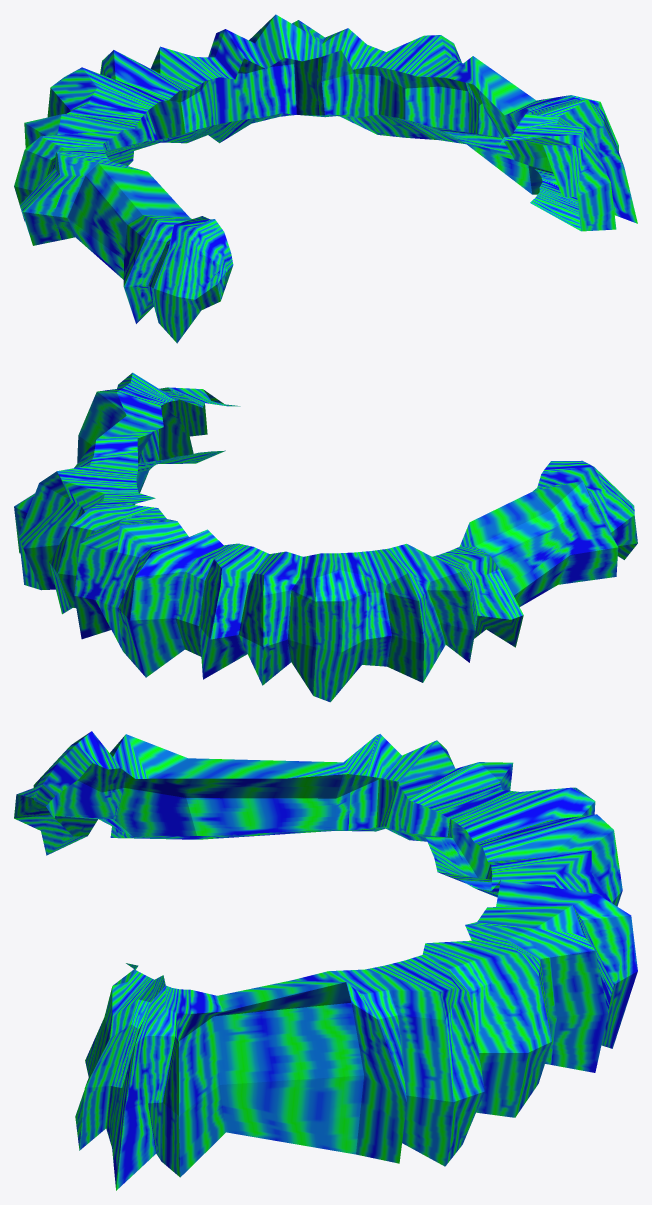
File: TavernOwnerHair.fbx
3 views of the same model, one above another, from view 1: azimuth 30°, elevation 25°; view 2: azimuth 150°, elevation 25°; view 3: azimuth 270°, elevation 25° (orthographic). The views are drawn at different scales.
Parts seen in each view (by area): view 1: hair; view 2: hair; view 3: hair.
Boxes of the visible parts, <box> form: hair: <box>14,14,637,343</box>; hair: <box>14,372,637,702</box>; hair: <box>14,731,637,1190</box>.
Bounding box in the file's own units: 72.83 × 17.39 × 57.85.
